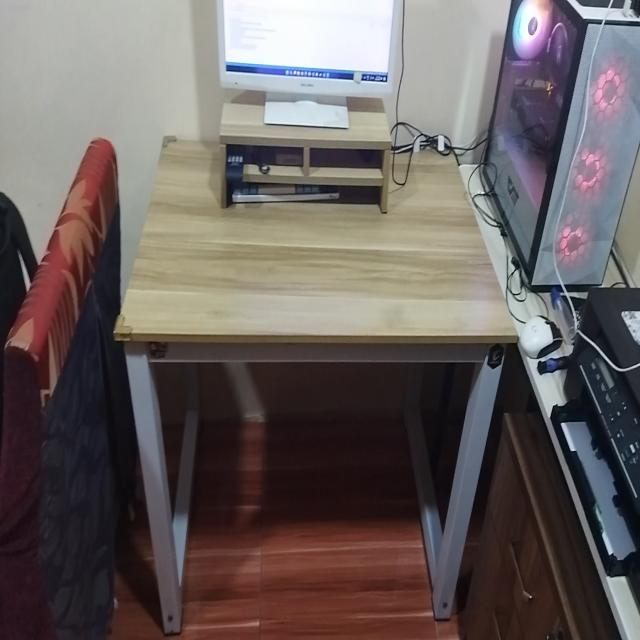table: (122, 123, 502, 640)
